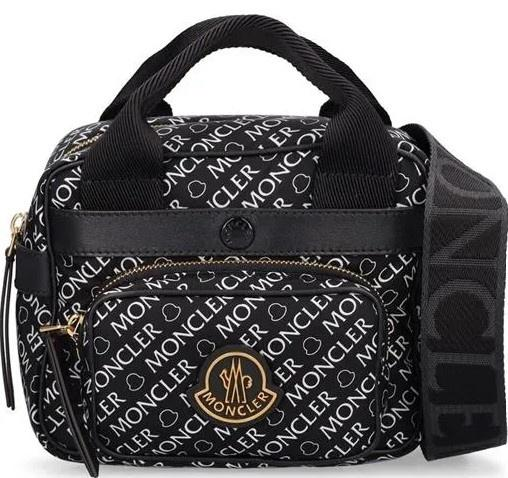MONCLER: (186, 345, 285, 428)
